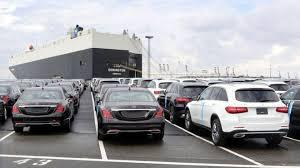car: (183, 83, 287, 148), (96, 87, 162, 141), (10, 86, 75, 132), (10, 86, 72, 132)
